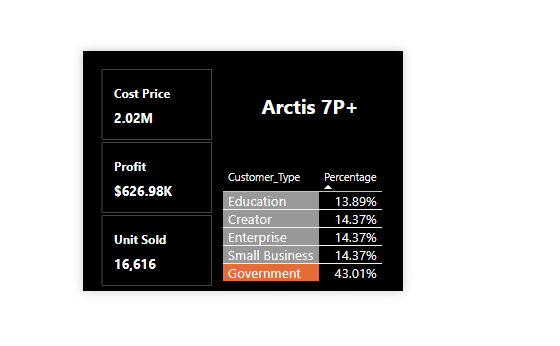

This screenshot's page, from the dashboard's own definition file:
{"tool":"powerbi","page":{"name":"Tooltip","canvas":[320,240],"ordinal":1},"visuals":[{"type":"cardVisual","fields":{"Data":["Sum(sales_queries.Total_Cost)","BaseMeasures.Total Profit","BaseMeasures.Total Unit Sold"]},"box":[13,13,121,227],"z":0},{"type":"card","fields":{"Values":["Min(sales_queries.Product)"]},"box":[134,0,186,113],"z":1000},{"type":"tableEx","fields":{"Values":["sales_queries.Customer_Type","CountNonNull(sales_queries.Customer_Type)"]},"box":[134,113,186,127],"z":2000}]}

Visuals, with their boxes on the page's 320x240 design canvas (x1, y1, x2, y2). These are canvas units, not pixel positions in the 560x346 screenshot, which may show the page scaled, cropped or inside an application window:
cardVisual - Sum(sales_queries.Total_Cost) x BaseMeasures.Total Profit: [x1=13, y1=13, x2=134, y2=240]
card - Min(sales_queries.Product): [x1=134, y1=0, x2=320, y2=113]
tableEx - sales_queries.Customer_Type x CountNonNull(sales_queries.Customer_Type): [x1=134, y1=113, x2=320, y2=240]
